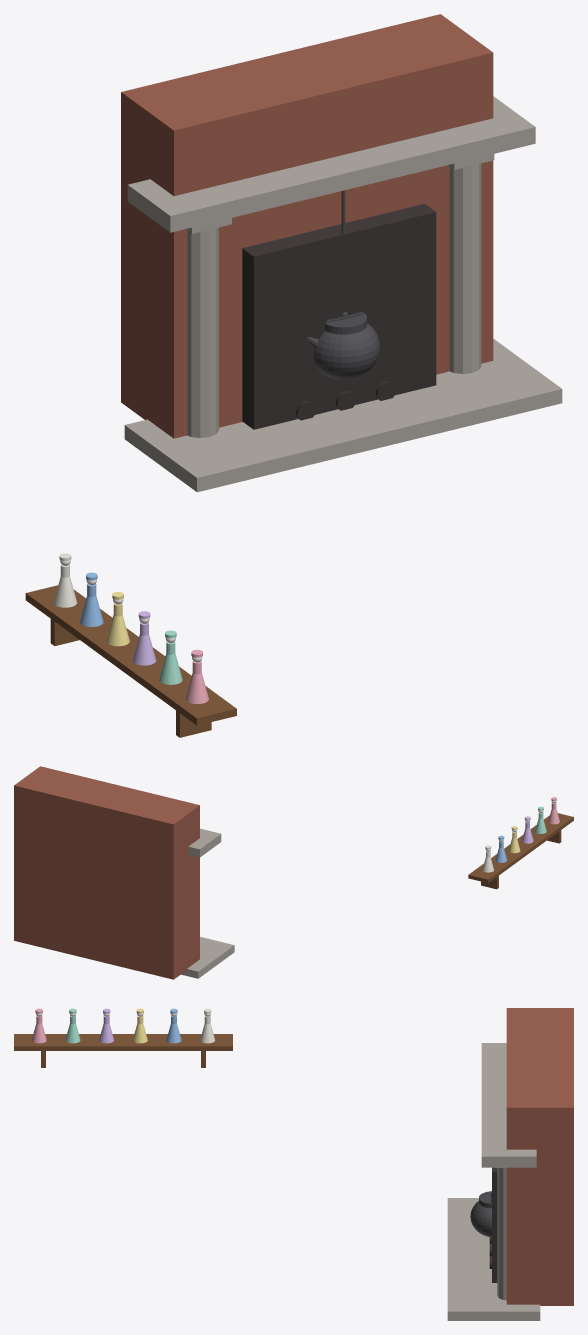
The model's file is mh1_hearth.glb.
3 views of the same model, one above another, from view 1: azimuth 30°, elevation 25°; view 2: azimuth 150°, elevation 25°; view 3: azimuth 270°, elevation 25° (orthographic). The views are drawn at different scales.
Visible parts, largest first — view 1: ChimneyBreast, FireboxSoot, HearthApron, MantelpieceTop, Pilaster_1.15, Pilaster_-1.15, DollShelf, KettlePotBelly; view 2: ChimneyBreast, DollShelf, HearthApron, MantelpieceTop; view 3: ChimneyBreast, HearthApron, MantelpieceTop, DollShelf, Pilaster_1.15, FireboxSoot, KettlePotBelly.
Part boxes in pixels (box(x1,y1,x2,y2)): ChimneyBreast: box(121, 14, 493, 438); FireboxSoot: box(242, 203, 436, 429); HearthApron: box(124, 338, 562, 492); MantelpieceTop: box(127, 96, 535, 232); Pilaster_1.15: box(449, 163, 481, 373); Pilaster_-1.15: box(187, 227, 218, 437); DollShelf: box(25, 585, 236, 725); KettlePotBelly: box(313, 323, 380, 379); ChimneyBreast: box(14, 766, 199, 979); DollShelf: box(468, 813, 573, 883); HearthApron: box(181, 937, 234, 978); MantelpieceTop: box(188, 828, 221, 857); ChimneyBreast: box(506, 1008, 573, 1305); HearthApron: box(447, 1198, 540, 1320); MantelpieceTop: box(481, 1043, 536, 1167); DollShelf: box(14, 1034, 232, 1050); Pilaster_1.15: box(497, 1168, 506, 1300); FireboxSoot: box(492, 1167, 497, 1282); KettlePotBelly: box(470, 1201, 491, 1237).
Bounding box in the file's own units: 6.18 × 2.7 × 6.65.
